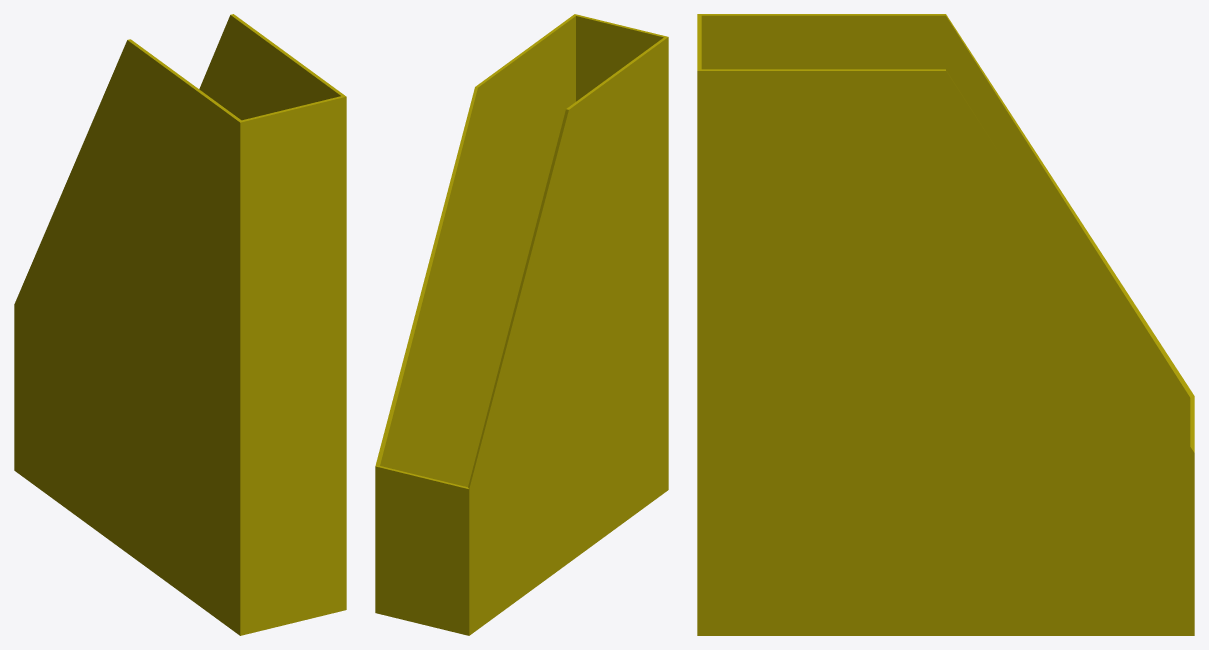
Rendered from office_prop_box_02.FBX.
The picture shows the model from 3 angles, left to right: view 1: azimuth 30°, elevation 25°; view 2: azimuth 150°, elevation 25°; view 3: azimuth 270°, elevation 25°; orthographic projection. The views are drawn at different scales.
Parts seen in each view (by area): view 1: office_prop_box_02; view 2: office_prop_box_02; view 3: office_prop_box_02.
Part boxes in pixels (box(x1,y1,x2,y2)): office_prop_box_02: box(14, 14, 346, 635); office_prop_box_02: box(375, 14, 668, 635); office_prop_box_02: box(697, 14, 1194, 635).
Size of the model in its own units: 9.57 by 44.15 by 35.22.
